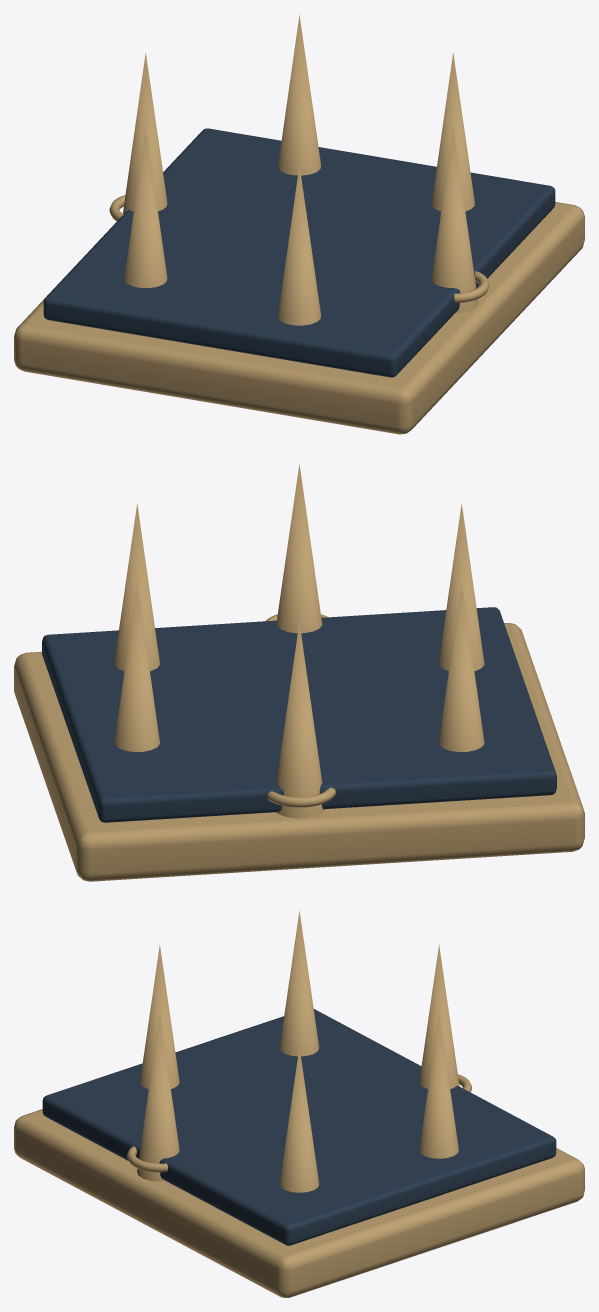
File: SM_HC2_BeatCrown_015.fbx
3 renders of one model, top to bottom at view 1: azimuth 30°, elevation 25°; view 2: azimuth 150°, elevation 25°; view 3: azimuth 270°, elevation 25°, orthographic. The views are drawn at different scales.
Visible parts, largest first — view 1: SM_HC2_BeatCrown_015; view 2: SM_HC2_BeatCrown_015; view 3: SM_HC2_BeatCrown_015.
Part boxes in pixels (left/top/right/bottom): SM_HC2_BeatCrown_015: left=14, top=14, right=584, bottom=434; SM_HC2_BeatCrown_015: left=14, top=463, right=584, bottom=881; SM_HC2_BeatCrown_015: left=14, top=910, right=584, bottom=1297.
Bounding box in the file's own units: 327 × 322 × 126.
